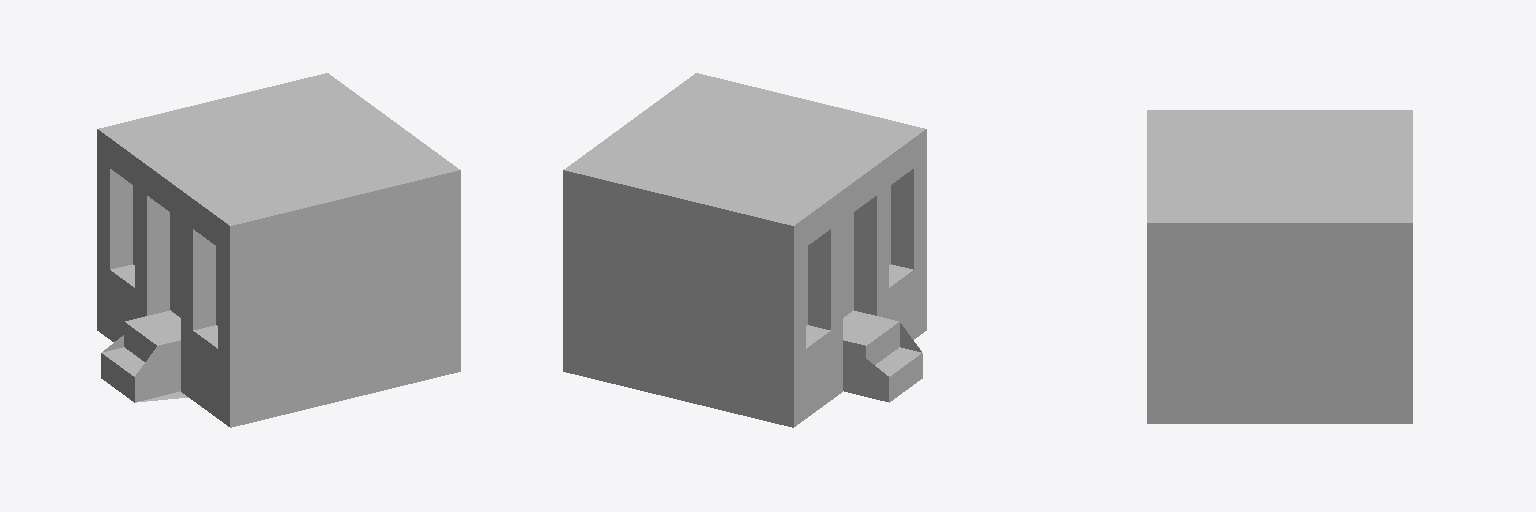
File: modularBuildings_024.obj
3 views of the same model, side by side, from view 1: azimuth 30°, elevation 25°; view 2: azimuth 150°, elevation 25°; view 3: azimuth 270°, elevation 25° (orthographic).
Parts seen in each view (by area): view 1: Mesh1 Group1 Model; view 2: Mesh1 Group1 Model; view 3: Mesh1 Group1 Model.
Part boxes in pixels (bbox=[...]): Mesh1 Group1 Model: bbox=[97, 73, 460, 427]; Mesh1 Group1 Model: bbox=[563, 73, 926, 427]; Mesh1 Group1 Model: bbox=[1147, 110, 1412, 423].
Bounding box in the file's own units: 1.2 × 0.8375 × 1.